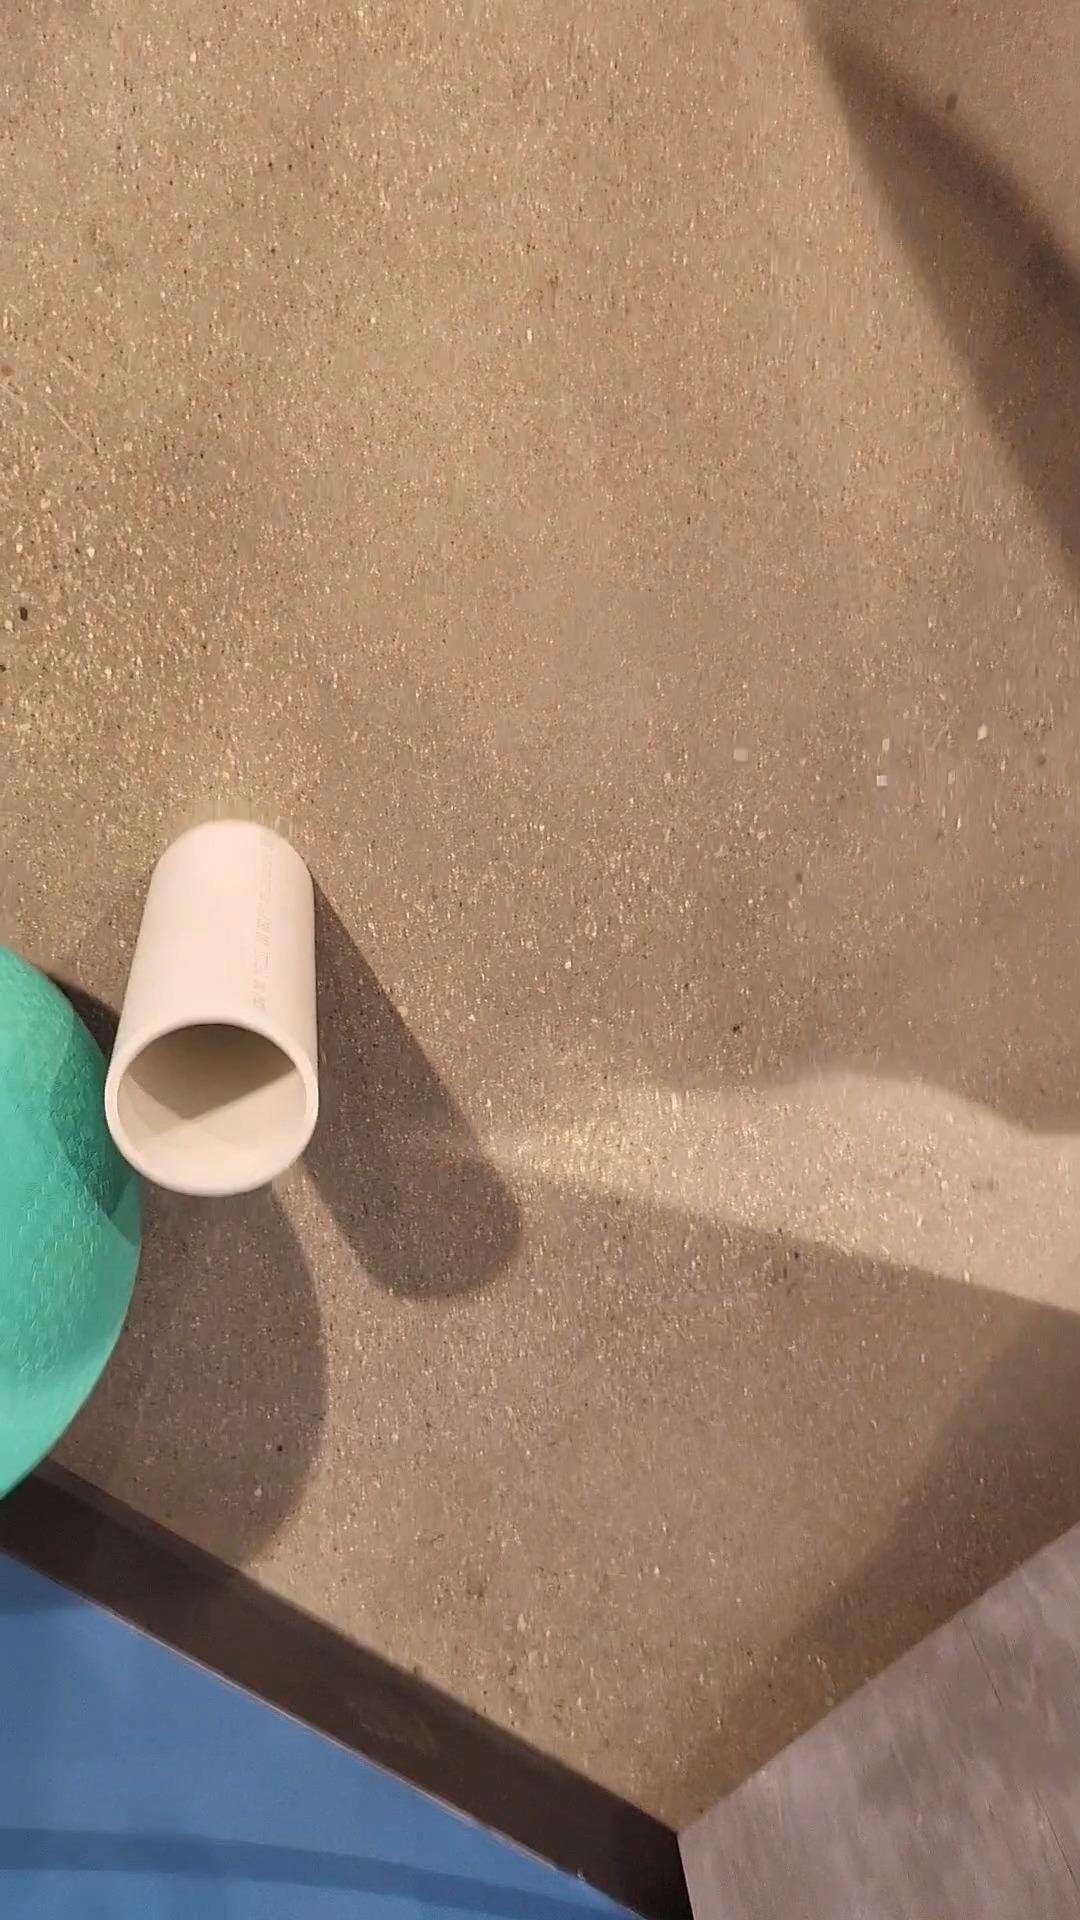algae: (0, 943, 145, 1507)
coral: (107, 822, 315, 1197)
